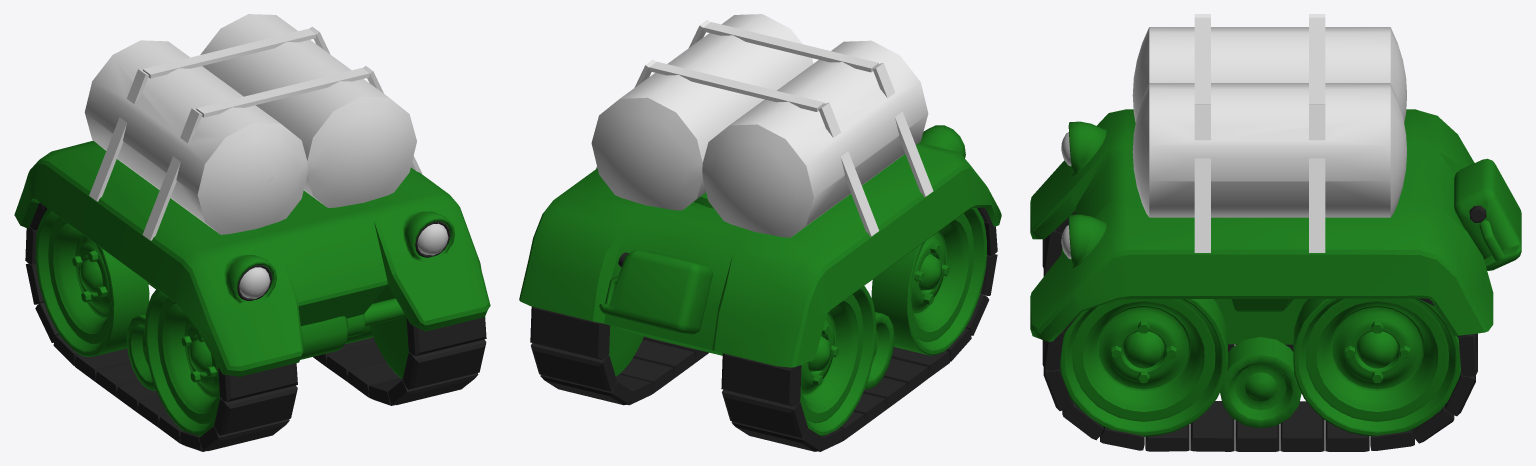
File: Bomber.FBX
The picture shows the model from 3 angles, left to right: view 1: azimuth 30°, elevation 25°; view 2: azimuth 150°, elevation 25°; view 3: azimuth 270°, elevation 25°; orthographic projection. The views are drawn at different scales.
Parts seen in each view (by area): view 1: TankChassis, OilTank001, TankTracksRight, TankTracksLeft; view 2: TankChassis, OilTank001, TankTracksRight, TankTracksLeft; view 3: TankChassis, OilTank001, TankTracksLeft, TankTracksRight.
Part boxes in pixels (x1,y1,x2,y2): TankChassis: (14, 140, 490, 390); OilTank001: (84, 14, 422, 240); TankTracksRight: (25, 203, 297, 451); TankTracksLeft: (313, 284, 486, 405); TankChassis: (519, 125, 1001, 389); OilTank001: (591, 14, 933, 237); TankTracksRight: (721, 207, 997, 451); TankTracksLeft: (530, 306, 708, 405); TankChassis: (1030, 109, 1521, 427); OilTank001: (1132, 14, 1406, 252); TankTracksLeft: (1042, 298, 1477, 451); TankTracksRight: (1042, 211, 1293, 352).
Size of the model in its own units: 67 by 68.22 by 93.14.
